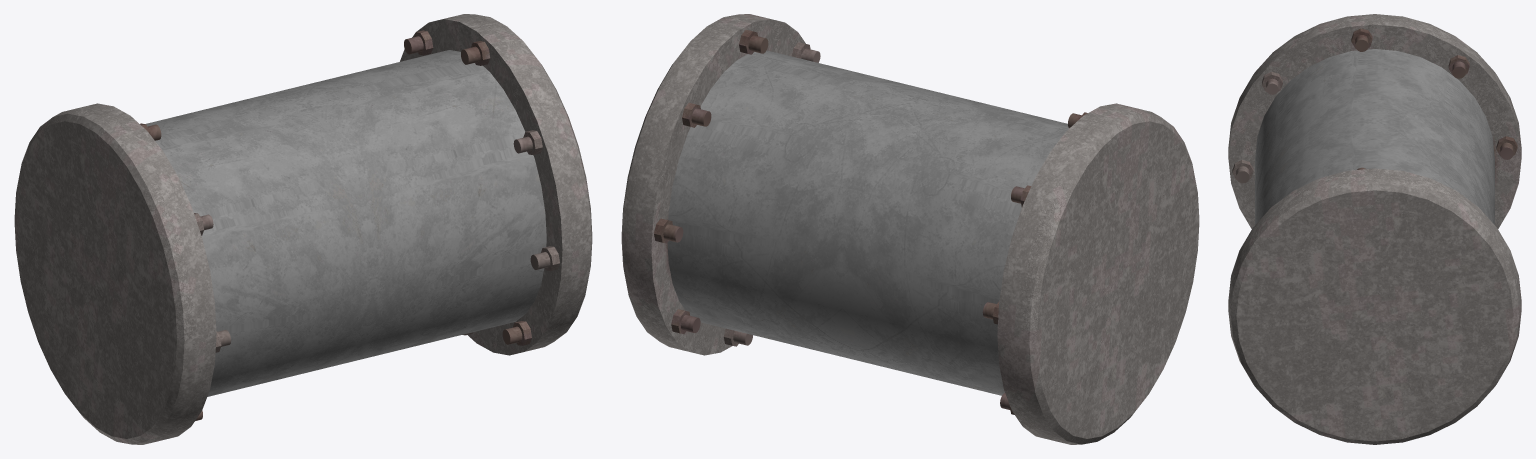
The model's file is cev_kratka.obj.
The picture shows the model from 3 angles, left to right: view 1: azimuth 30°, elevation 25°; view 2: azimuth 150°, elevation 25°; view 3: azimuth 270°, elevation 25°; orthographic projection. The views are drawn at different scales.
Parts seen in each view (by area): view 1: cev_ventil_Cylinder, cev_ventil.001_Cylinder.002; view 2: cev_ventil_Cylinder, cev_ventil.001_Cylinder.002; view 3: cev_ventil.001_Cylinder.002, cev_ventil_Cylinder.
Boxes of the visible parts, left/top/right/bottom form: cev_ventil_Cylinder: left=145, top=50, right=546, bottom=396; cev_ventil.001_Cylinder.002: left=14, top=14, right=592, bottom=444; cev_ventil_Cylinder: left=667, top=50, right=1068, bottom=395; cev_ventil.001_Cylinder.002: left=621, top=14, right=1199, bottom=444; cev_ventil.001_Cylinder.002: left=1228, top=14, right=1521, bottom=444; cev_ventil_Cylinder: left=1255, top=49, right=1494, bottom=224.
Size of the model in its own units: 0.2621 by 0.1881 by 0.1881.
Materials: 2 (2 with a texture image).
